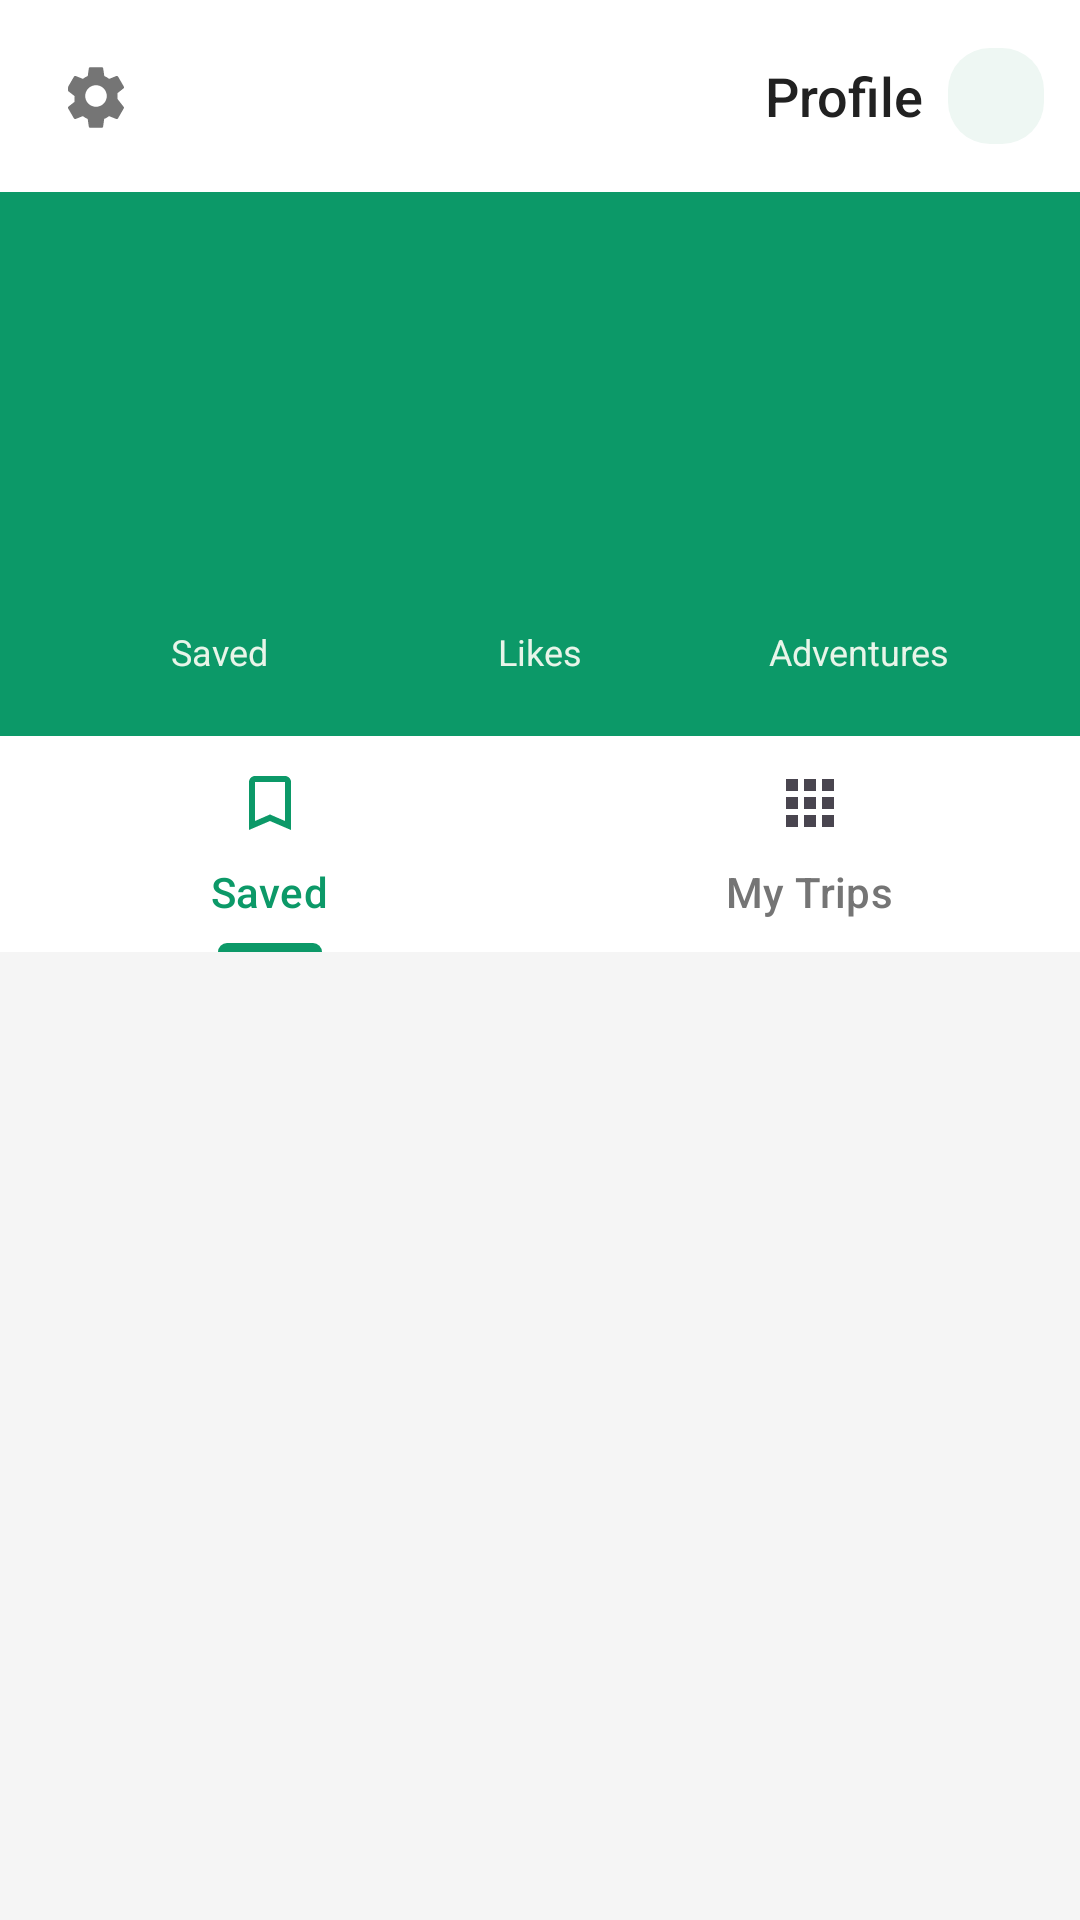

Icon bounding boxes for this 1080×1920 phone screenshot, format {"x1": x1, "y1": y1, "x2": x2, "y2": y2}:
Settings: {"x1": 68, "y1": 67, "x2": 124, "y2": 128}
